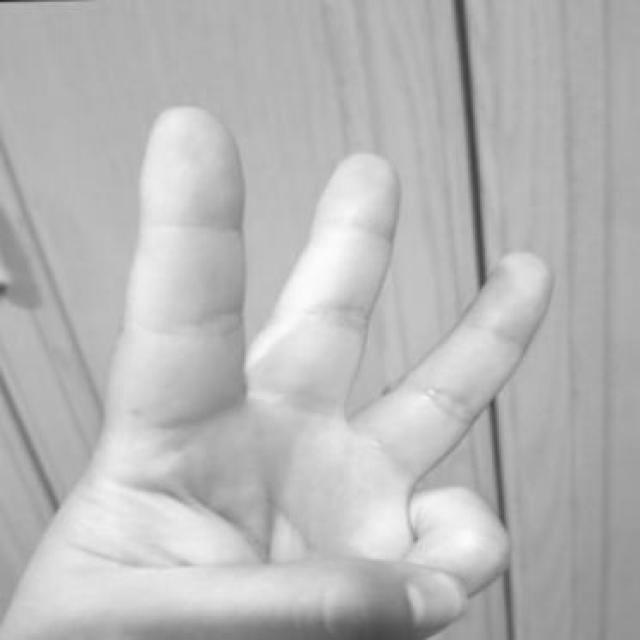W: (0, 85, 590, 639)
